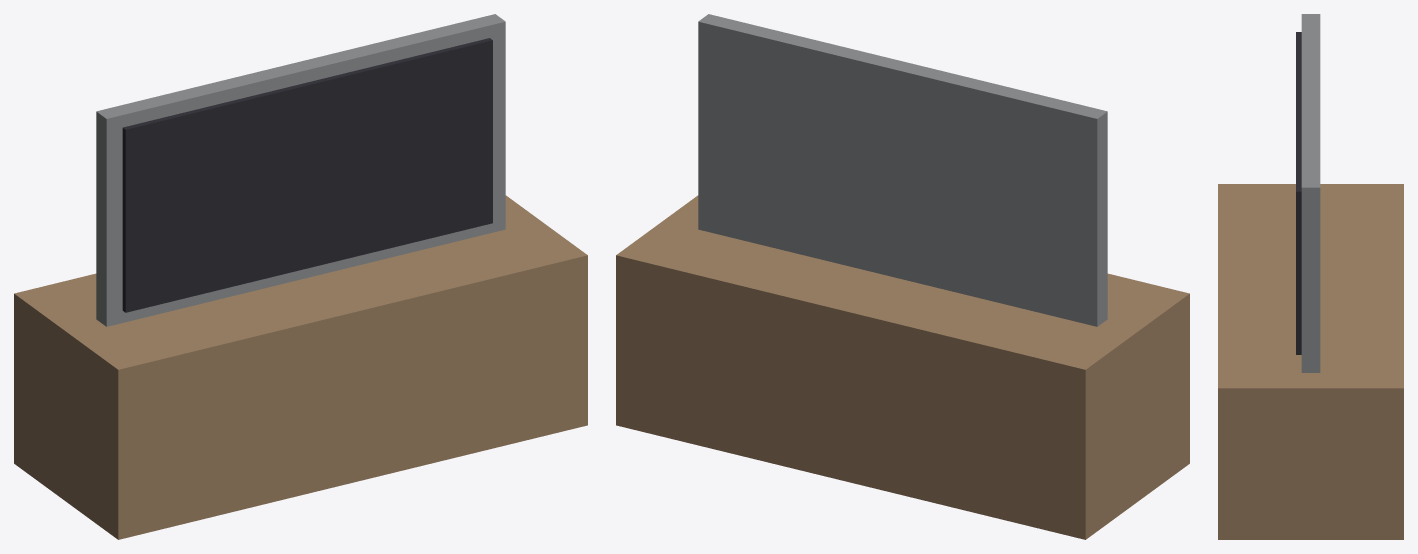
3 renders of one model, left to right at view 1: azimuth 30°, elevation 25°; view 2: azimuth 150°, elevation 25°; view 3: azimuth 270°, elevation 25°, orthographic. The views are drawn at different scales.
Parts seen in each view (by area): view 1: TV; view 2: TV; view 3: TV.
Boxes of the visible parts, bbox=[...] form: TV: bbox=[14, 14, 587, 539]; TV: bbox=[616, 14, 1189, 539]; TV: bbox=[1218, 14, 1403, 539].
Bounding box in the file's own units: 1.3 × 1 × 0.5.
